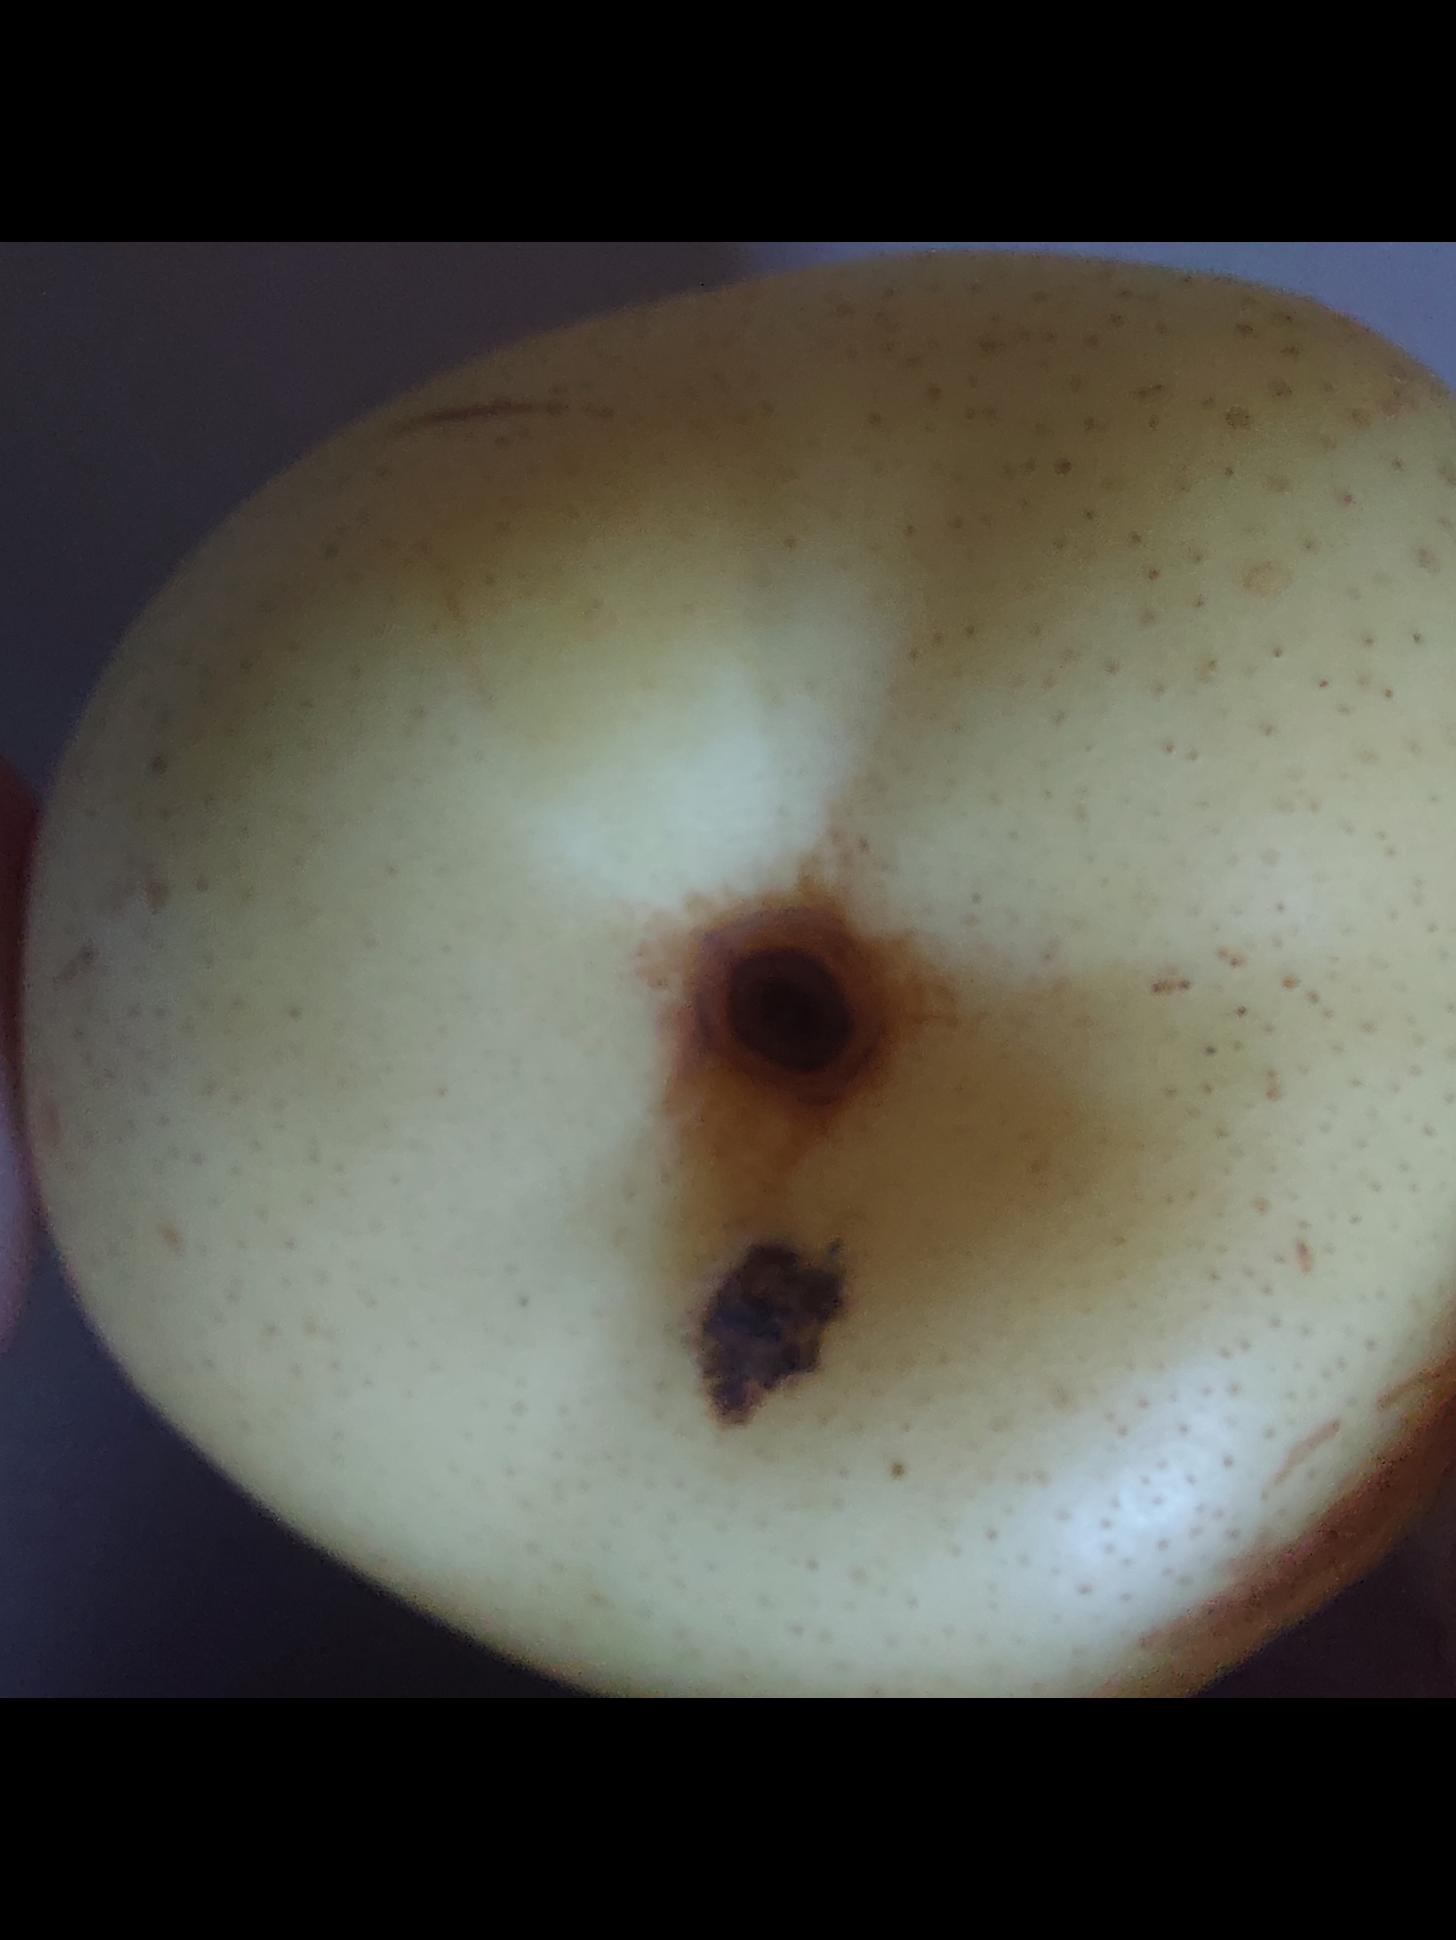Good Pear: (27, 281, 1456, 1698)
